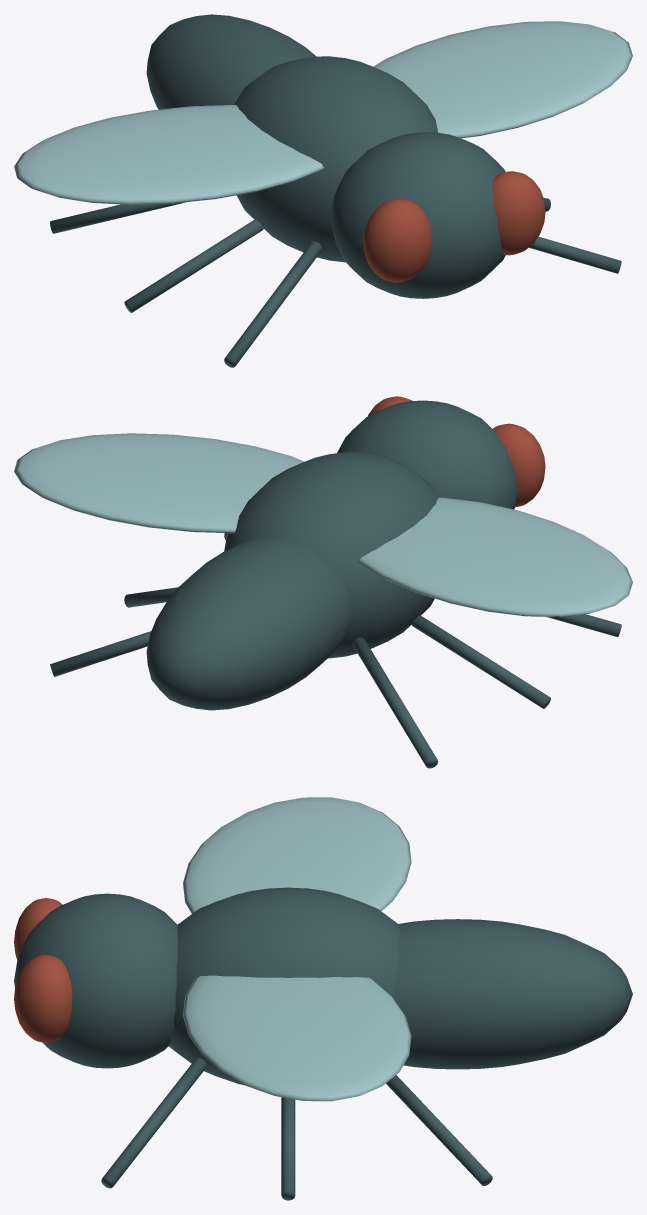
The model's file is fly_visual_v1.glb.
3 views of the same model, one above another, from view 1: azimuth 30°, elevation 25°; view 2: azimuth 150°, elevation 25°; view 3: azimuth 270°, elevation 25° (orthographic). The views are drawn at different scales.
Parts seen in each view (by area): view 1: Wing.L, Thorax, Wing.R, Head, Abdomen, Eye.L, Eye.R, Leg.L.Middle, Leg.L.Front, Leg.L.Rear, Leg.R.Front; view 2: Abdomen, Wing.L, Thorax, Wing.R, Head, Eye.L, Leg.L.Middle, Leg.L.Rear, Leg.R.Rear, Leg.L.Front, Leg.R.Middle; view 3: Abdomen, Wing.R, Head, Thorax, Wing.L, Eye.R, Leg.R.Front, Leg.R.Rear, Leg.R.Middle, Eye.L.
Part boxes in pixels (x1,y1,x2,y2): Wing.L: [14, 105, 324, 204]; Thorax: [234, 56, 438, 262]; Wing.R: [373, 21, 632, 138]; Head: [330, 132, 505, 298]; Abdomen: [146, 14, 316, 109]; Eye.L: [363, 198, 431, 282]; Eye.R: [492, 171, 545, 255]; Leg.L.Middle: [124, 219, 263, 312]; Leg.L.Front: [224, 241, 322, 367]; Leg.L.Rear: [50, 202, 185, 233]; Leg.R.Front: [529, 236, 621, 273]; Abdomen: [146, 537, 352, 710]; Wing.L: [358, 497, 632, 616]; Thorax: [224, 452, 438, 658]; Wing.R: [14, 433, 304, 533]; Head: [337, 400, 517, 509]; Eye.L: [493, 423, 545, 507]; Leg.L.Middle: [411, 615, 550, 708]; Leg.L.Rear: [352, 637, 438, 768]; Leg.R.Rear: [50, 631, 151, 676]; Leg.L.Front: [546, 614, 621, 636]; Leg.R.Middle: [124, 587, 177, 607]; Abdomen: [394, 919, 632, 1069]; Wing.R: [183, 975, 411, 1101]; Head: [14, 893, 177, 1068]; Thorax: [169, 887, 400, 1085]; Wing.L: [183, 797, 411, 913]; Eye.R: [14, 955, 72, 1042]; Leg.R.Front: [101, 1058, 206, 1188]; Leg.R.Rear: [386, 1075, 492, 1185]; Leg.R.Middle: [281, 1097, 295, 1200]; Eye.L: [14, 898, 62, 959].
Size of the model in its own units: 1.16 by 0.3502 by 1.
